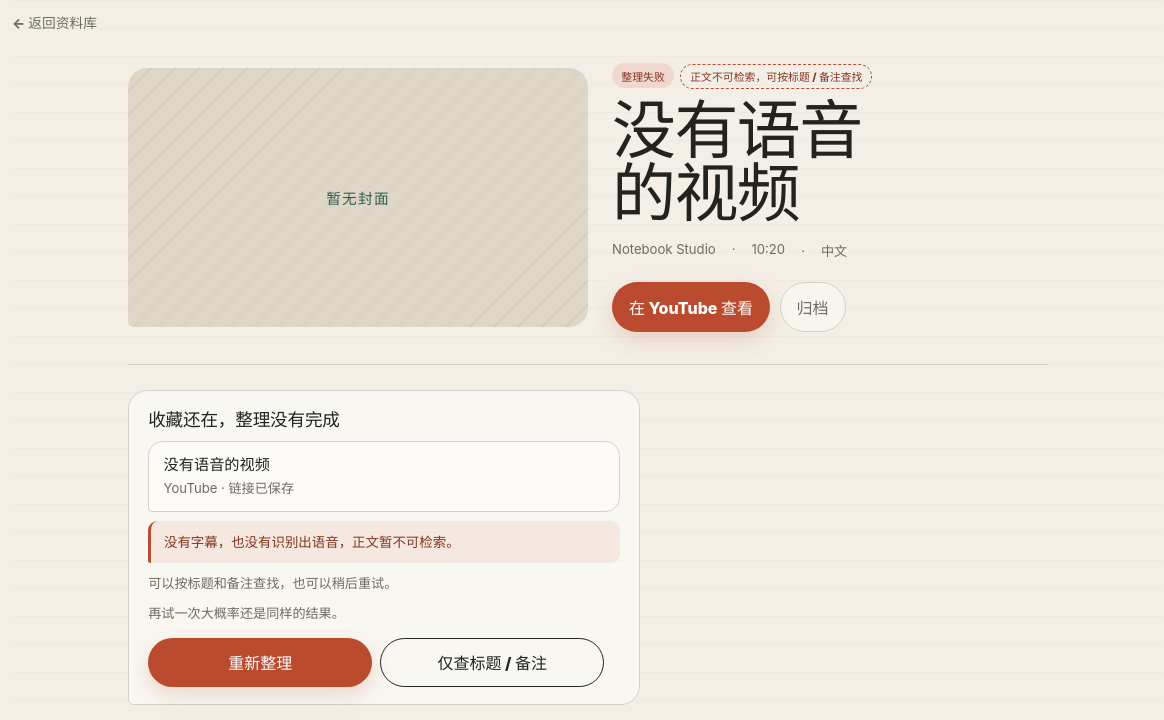
Scenario: video detail page › runs ingestion again and shows the item as queued once the server accepts
Step 1. Click the button "重新整理" → click(260, 662), box x1=148 y1=638 x2=372 y2=687
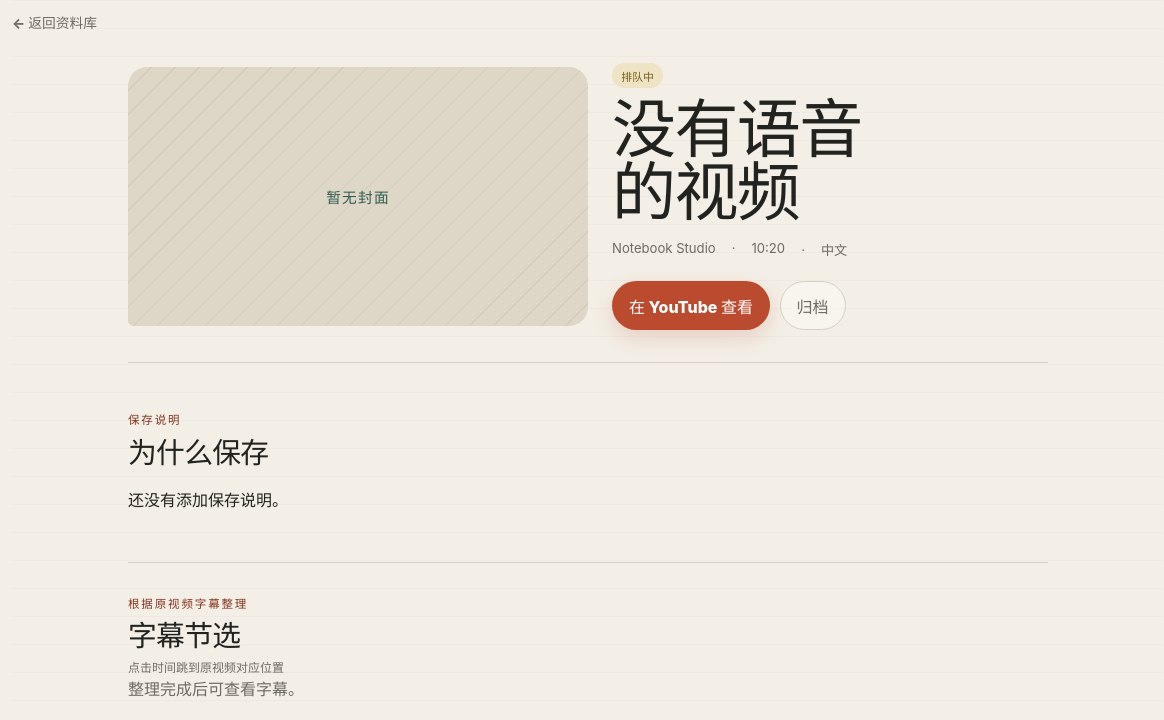
Expected: the heading "收藏还在，整理没有完成" is gone
Expected: the text "排队中" is shown, x1=612 y1=63 x2=663 y2=88
